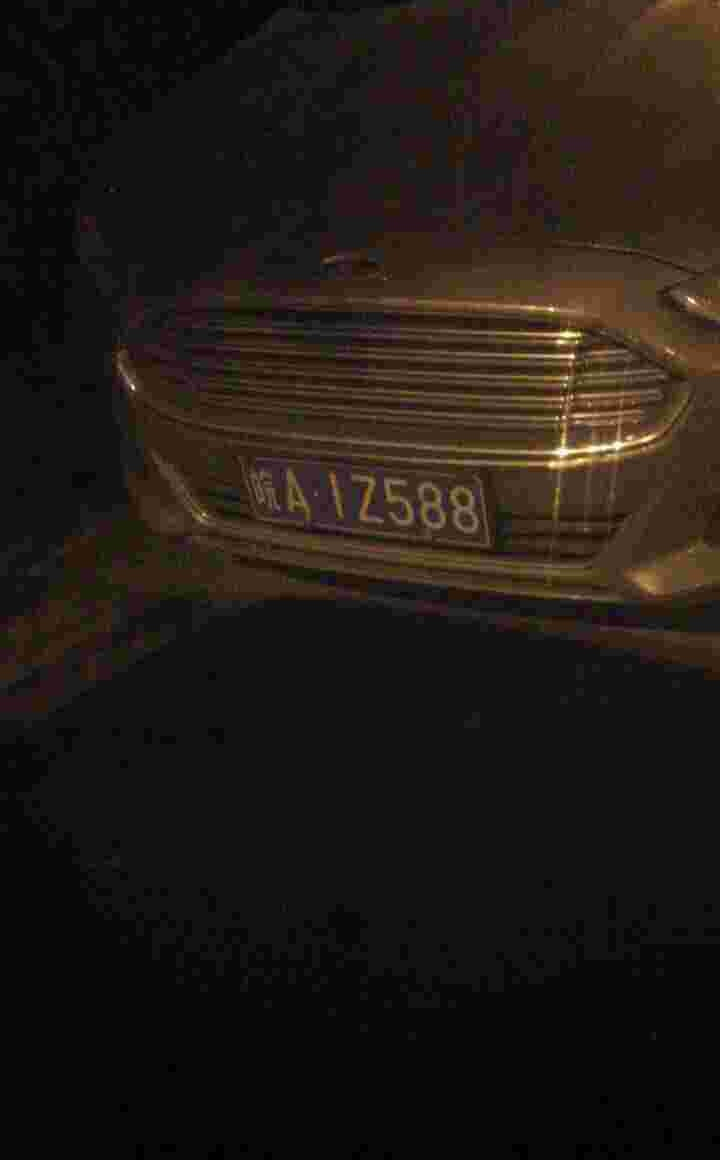license_plate: (231, 457, 481, 540)
